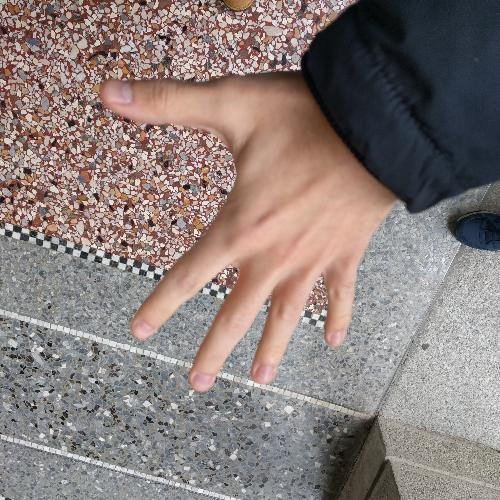paper: (92, 60, 408, 396)
